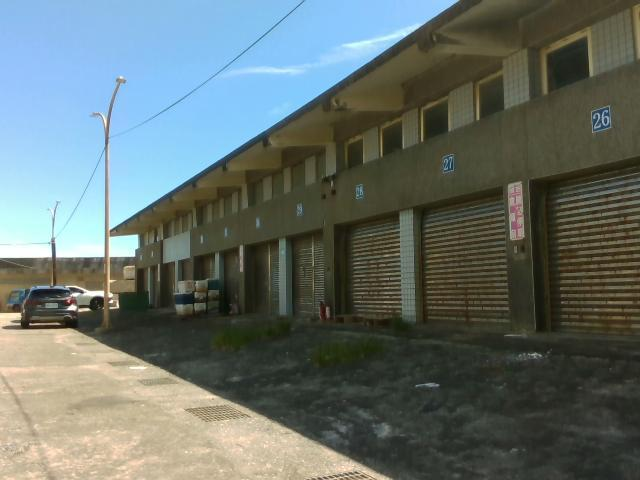pollute: (173, 275, 223, 318)
